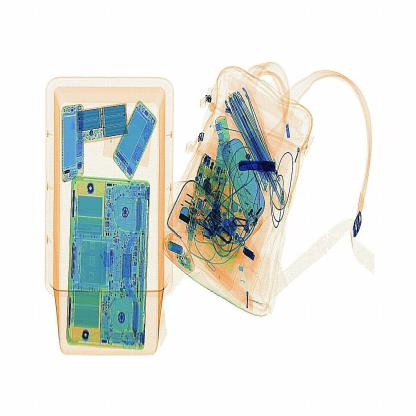knife: (234, 155, 281, 179)
